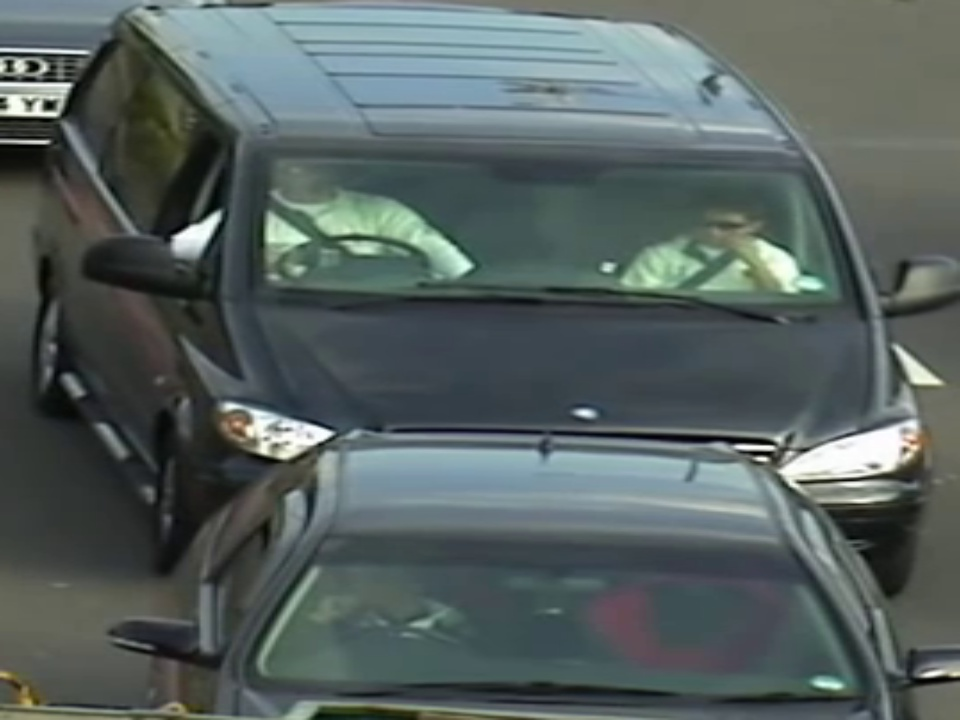TWO: (250, 147, 845, 306)
